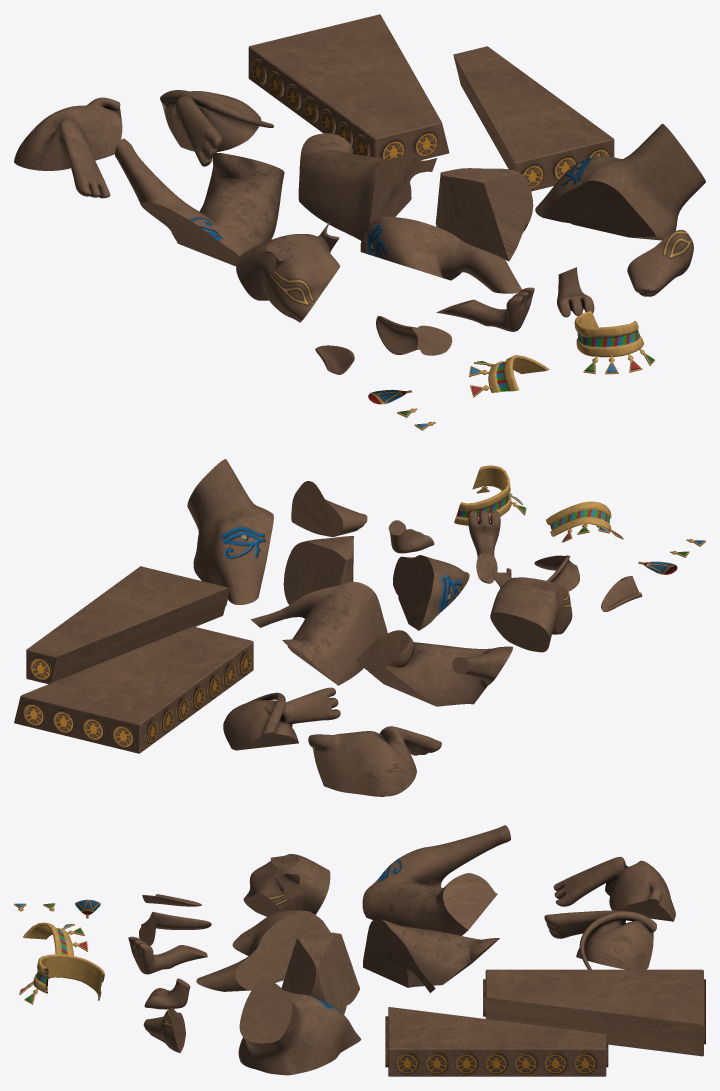
Rendered from StatueE_montaje.fbx.
3 renders of one model, top to bottom at view 1: azimuth 30°, elevation 25°; view 2: azimuth 150°, elevation 25°; view 3: azimuth 270°, elevation 25°, orthographic. The views are drawn at different scales.
Visible parts, largest first — view 1: StatueE_07.002, StatueE_06.002, StatueE_15.002, StatueE_19.002, StatueE_09.002, StatueE_08.002, StatueE_18.002, StatueE_11.002, StatueE_16.002, StatueE_14.002, StatueE_02.002, StatueE_10.002 (+5 smaller); view 2: StatueE_07.002, StatueE_06.002, StatueE_15.002, StatueE_09.002, StatueE_19.002, StatueE_18.002, StatueE_11.002, StatueE_14.002, StatueE_16.002, StatueE_08.002, StatueE_10.002, StatueE_02.002 (+5 smaller); view 3: StatueE_07.002, StatueE_06.002, StatueE_19.002, StatueE_15.002, StatueE_09.002, StatueE_16.002, StatueE_14.002, StatueE_18.002, StatueE_08.002, StatueE_11.002, StatueE_02.002, StatueE_17.002 (+5 smaller).
Boxes of the visible parts, left/top/right/bottom form: StatueE_07.002: left=248, top=14, right=449, bottom=160; StatueE_06.002: left=453, top=46, right=614, bottom=191; StatueE_15.002: left=535, top=123, right=705, bottom=240; StatueE_19.002: left=115, top=138, right=284, bottom=266; StatueE_09.002: left=298, top=133, right=437, bottom=240; StatueE_08.002: left=435, top=168, right=533, bottom=261; StatueE_18.002: left=14, top=97, right=122, bottom=198; StatueE_11.002: left=236, top=222, right=340, bottom=322; StatueE_16.002: left=360, top=216, right=521, bottom=293; StatueE_14.002: left=160, top=90, right=273, bottom=166; StatueE_02.002: left=574, top=311, right=655, bottom=374; StatueE_10.002: left=627, top=229, right=693, bottom=296; StatueE_07.002: left=14, top=626, right=253, bottom=753; StatueE_06.002: left=26, top=566, right=229, bottom=684; StatueE_15.002: left=187, top=459, right=273, bottom=604; StatueE_09.002: left=250, top=581, right=387, bottom=685; StatueE_19.002: left=355, top=630, right=512, bottom=706; StatueE_18.002: left=308, top=726, right=441, bottom=796; StatueE_11.002: left=490, top=568, right=572, bottom=652; StatueE_14.002: left=223, top=687, right=340, bottom=750; StatueE_16.002: left=393, top=555, right=469, bottom=630; StatueE_08.002: left=283, top=536, right=353, bottom=604; StatueE_10.002: left=291, top=481, right=367, bottom=536; StatueE_02.002: left=454, top=465, right=526, bottom=525; StatueE_07.002: left=483, top=969, right=705, bottom=1056; StatueE_06.002: left=385, top=1007, right=608, bottom=1076; StatueE_19.002: left=362, top=825, right=510, bottom=935; StatueE_15.002: left=238, top=979, right=361, bottom=1075; StatueE_09.002: left=363, top=918, right=499, bottom=992; StatueE_16.002: left=196, top=910, right=330, bottom=991; StatueE_14.002: left=544, top=910, right=656, bottom=969; StatueE_18.002: left=553, top=856, right=675, bottom=921; StatueE_08.002: left=281, top=932, right=359, bottom=1014; StatueE_11.002: left=243, top=854, right=330, bottom=916; StatueE_02.002: left=19, top=954, right=104, bottom=1004; StatueE_17.002: left=128, top=936, right=207, bottom=974.
Bounding box in the file's own units: 6.32 × 1.38 × 9.61.
